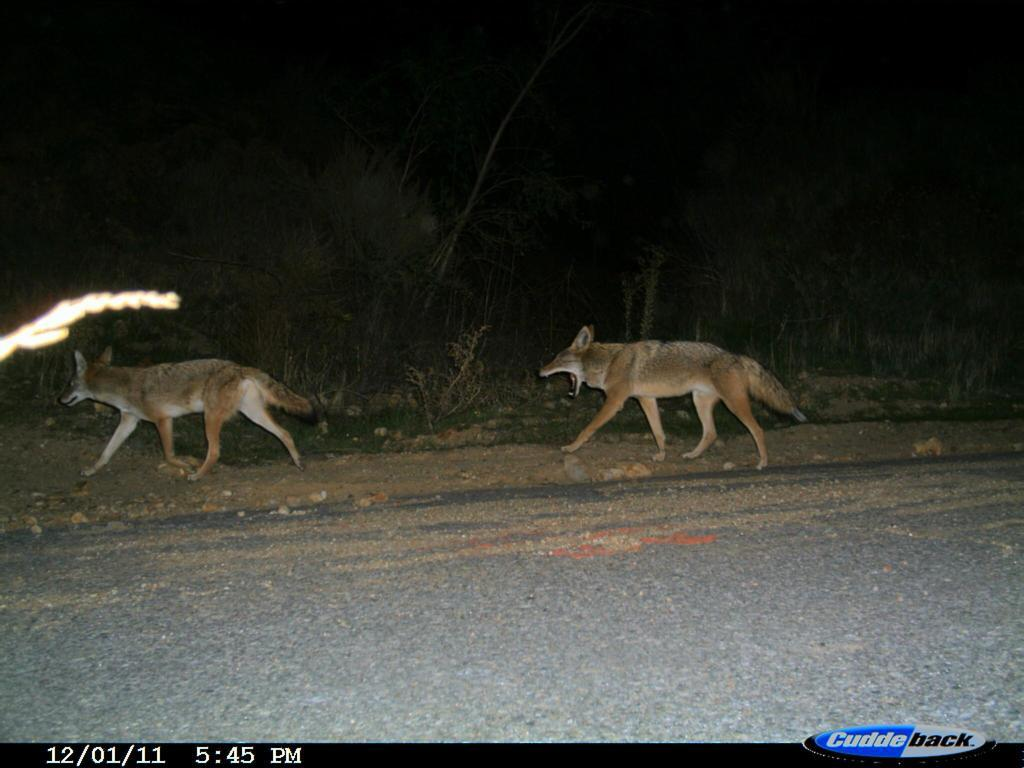coyote: (519, 321, 820, 487), (56, 337, 319, 491)
